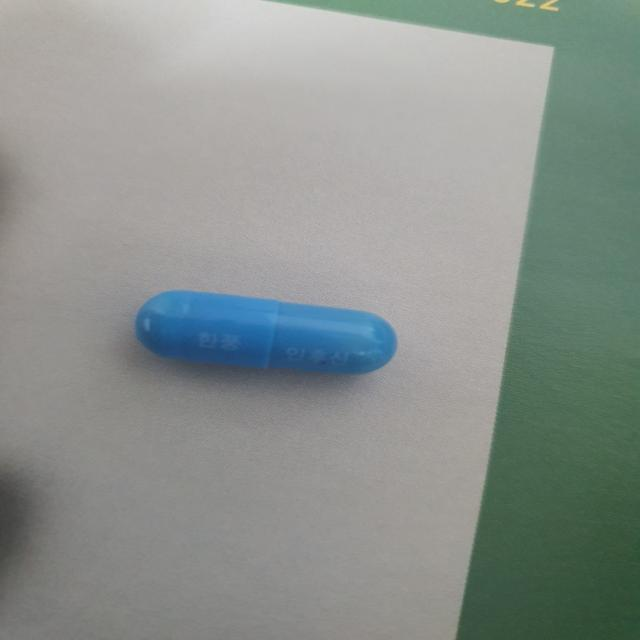pill: (135, 283, 403, 398)
